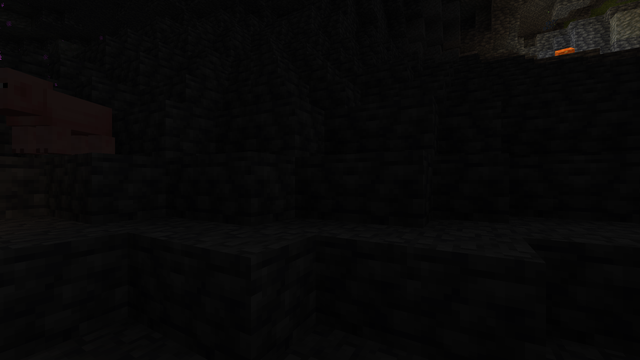cochons: (13, 84, 111, 157)
